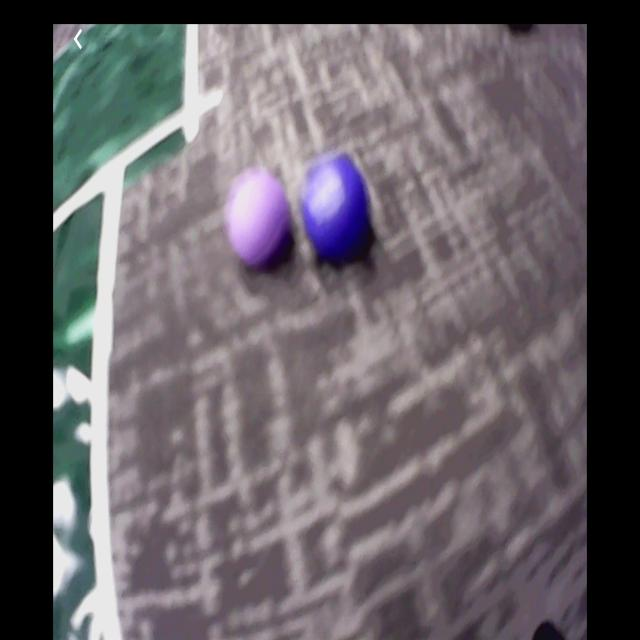ball: (302, 155, 372, 263), (230, 174, 292, 268)
